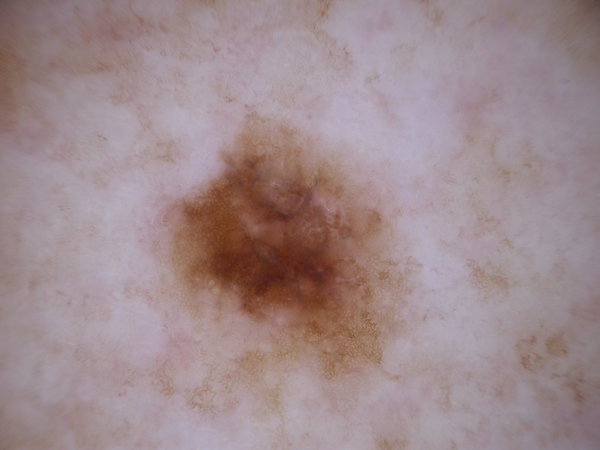Detected Lesion: (157, 104, 412, 386)
